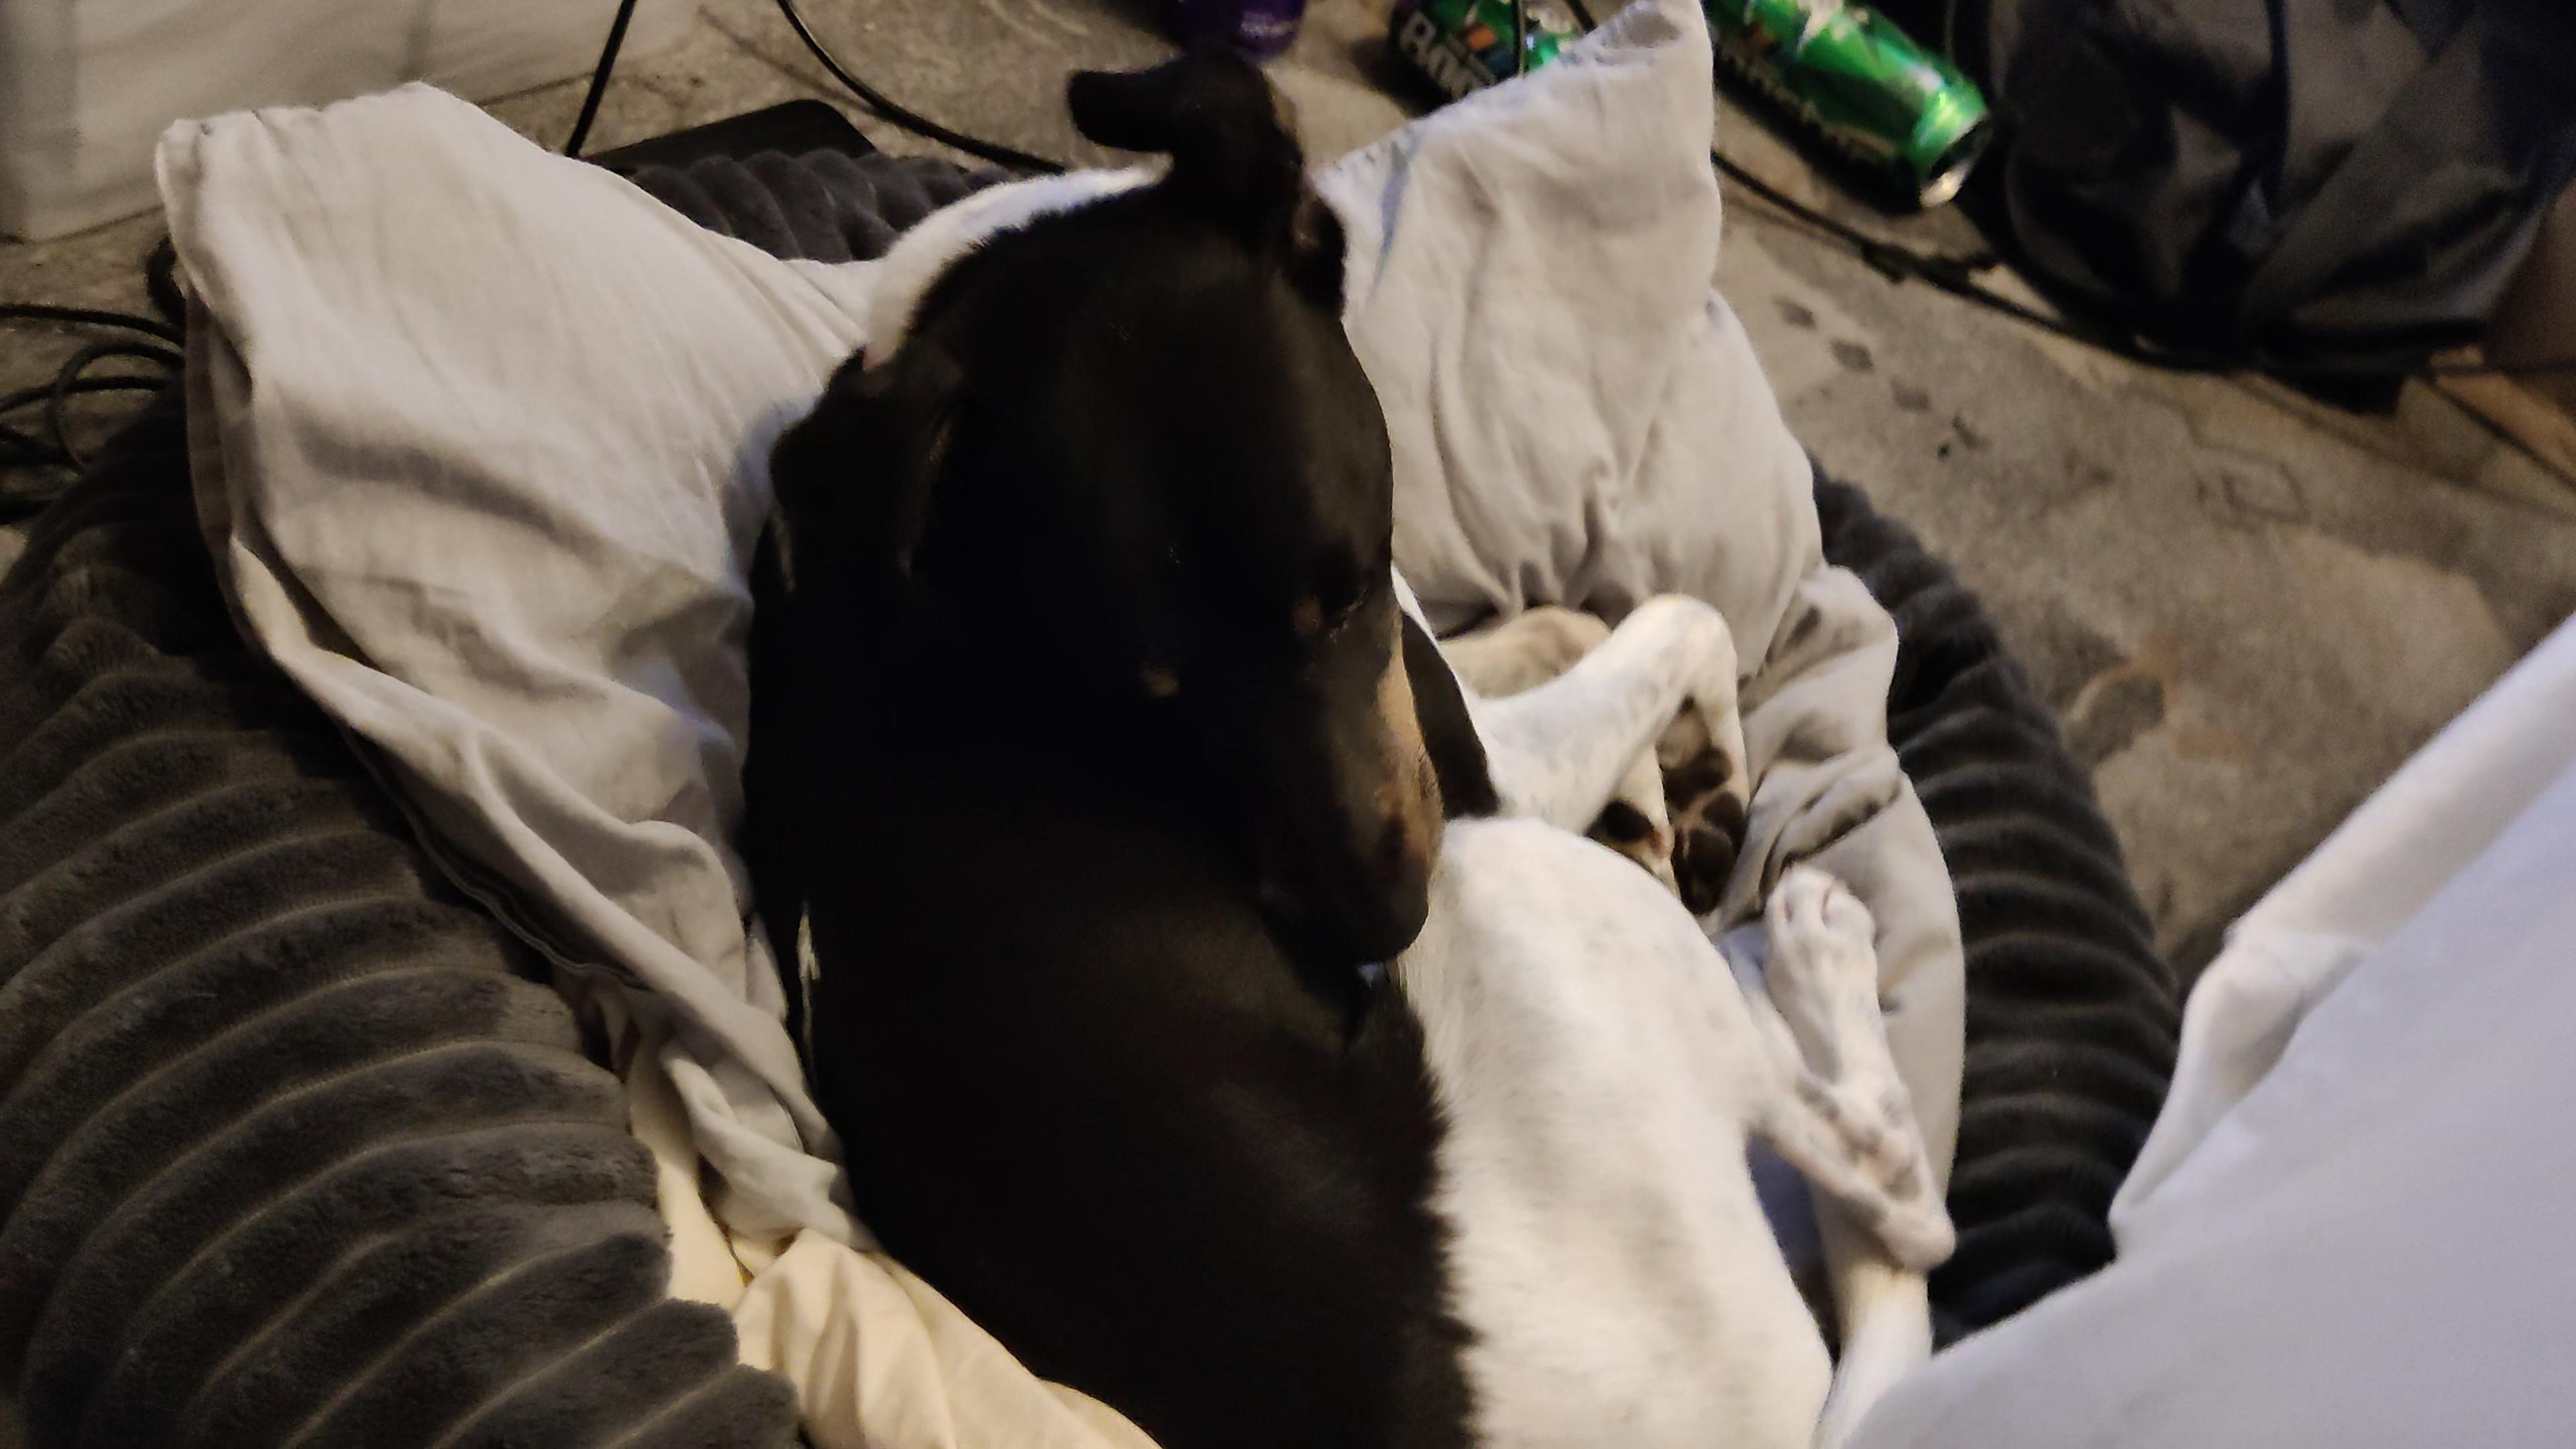Dog: (706, 25, 1960, 1449)
